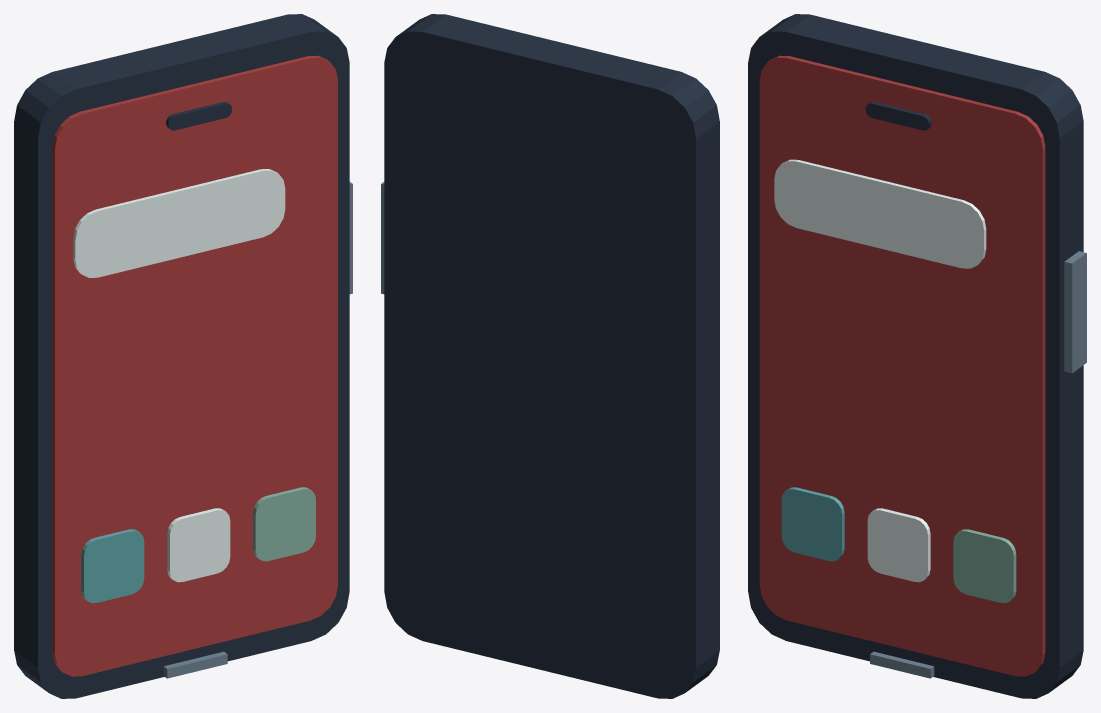
File: phone.glb
3 views of the same model, side by side, from view 1: azimuth 30°, elevation 25°; view 2: azimuth 150°, elevation 25°; view 3: azimuth 330°, elevation 25° (orthographic).
Visible parts, largest first — view 1: screen, case, widget, app 1, app 0, app 2, earpiece, port; view 2: case; view 3: screen, case, widget, app 0, app 1, app 2, side switch, earpiece, port.
Boxes of the visible parts, x1,y1,x2,y2 form: screen: [52, 55, 337, 676]; case: [14, 14, 349, 698]; widget: [73, 169, 285, 277]; app 1: [167, 508, 230, 582]; app 0: [81, 529, 144, 603]; app 2: [253, 487, 315, 561]; earpiece: [166, 101, 232, 130]; port: [163, 651, 227, 678]; case: [384, 14, 719, 698]; screen: [759, 55, 1045, 676]; case: [748, 14, 1083, 698]; widget: [774, 159, 986, 268]; app 0: [781, 487, 844, 561]; app 1: [867, 508, 930, 582]; app 2: [953, 529, 1016, 603]; side switch: [1064, 251, 1086, 373]; earpiece: [865, 101, 931, 130]; port: [870, 651, 934, 678].
Size of the model in its own units: 1 by 1.83 by 0.166.
